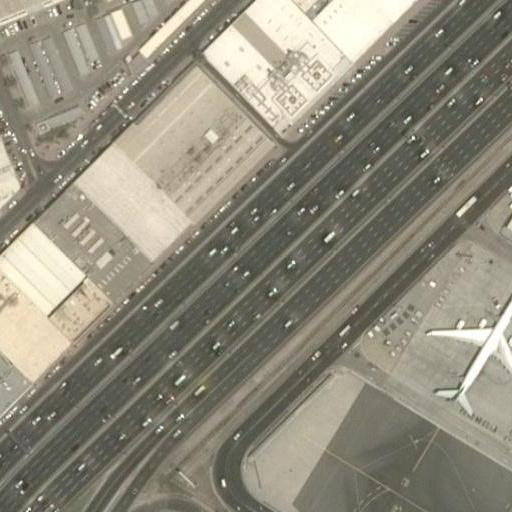Aircraft: (425, 280, 512, 413)
